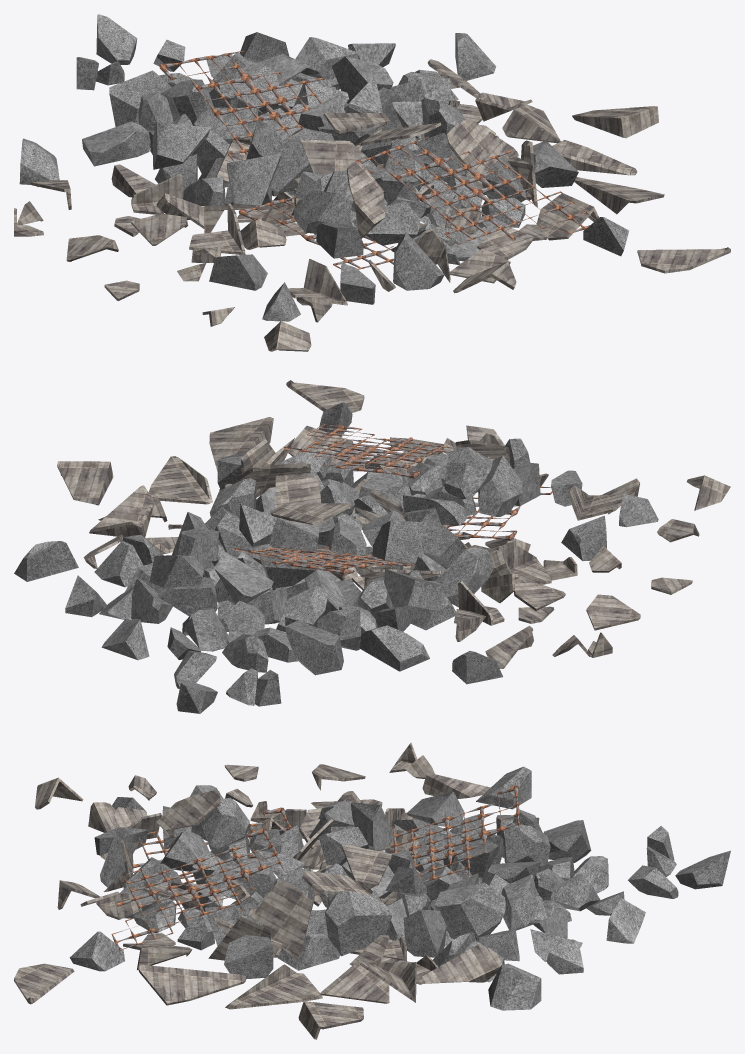
The model's file is debris.fbx.
3 views of the same model, one above another, from view 1: azimuth 30°, elevation 25°; view 2: azimuth 150°, elevation 25°; view 3: azimuth 270°, elevation 25° (orthographic). The views are drawn at different scales.
Parts seen in each view (by area): view 1: Plane_2, Plane, Piece_13, Piece_9_3, Piece_42, Piece_42_2, Piece_39, Piece_14, Piece_8, Piece_31_2, Piece_14_3, Piece_27 (+67 smaller); view 2: Plane_2, Piece_14_3, Plane, Piece_17_4, Piece_9_3, Piece_1, Piece_31_2, Piece_15_2, Piece_42_2, Piece_8, Piece_29_2, Piece_9_2 (+69 smaller); view 3: Plane_2, Piece_20_2, Piece_20_3, Plane, Piece_13, Piece_17, Piece_17_4, Piece_11_3, Piece_2, Piece_32_2, Piece_32_3, Piece_1_4 (+66 smaller).
Boxes of the visible parts, <box> form: Plane_2: <box>355,136,595,244</box>; Plane: <box>159,50,367,161</box>; Piece_13: <box>446,118,518,174</box>; Piece_9_3: <box>82,121,150,166</box>; Piece_42: <box>227,153,280,205</box>; Piece_42_2: <box>152,122,210,169</box>; Piece_39: <box>393,232,444,290</box>; Piece_14: <box>346,161,385,238</box>; Piece_8: <box>572,106,658,138</box>; Piece_31_2: <box>294,190,352,233</box>; Piece_14_3: <box>109,70,171,126</box>; Piece_27: <box>536,193,599,240</box>; Plane_2: <box>284,424,457,478</box>; Piece_14_3: <box>285,620,343,675</box>; Plane: <box>234,545,415,575</box>; Piece_17_4: <box>148,456,212,504</box>; Piece_9_3: <box>359,625,429,671</box>; Piece_1: <box>89,485,154,537</box>; Piece_31_2: <box>478,455,522,516</box>; Piece_15_2: <box>372,520,427,563</box>; Piece_42_2: <box>384,568,447,611</box>; Piece_8: <box>57,461,113,505</box>; Piece_29_2: <box>444,447,492,499</box>; Piece_9_2: <box>435,547,494,607</box>; Plane_2: <box>111,828,284,950</box>; Piece_20_2: <box>325,891,392,956</box>; Piece_20_3: <box>434,882,505,939</box>; Plane: <box>378,785,520,904</box>; Piece_13: <box>255,880,312,958</box>; Piece_17: <box>138,964,245,1005</box>; Piece_17_4: <box>225,964,322,1009</box>; Piece_11_3: <box>488,963,541,1010</box>; Piece_2: <box>417,944,502,984</box>; Piece_32_2: <box>224,935,273,979</box>; Piece_32_3: <box>403,909,446,957</box>; Piece_1_4: <box>320,959,389,1003</box>.
Size of the model in its own units: 986 by 136 by 1072.
Materials: 72 (72 with a texture image).
